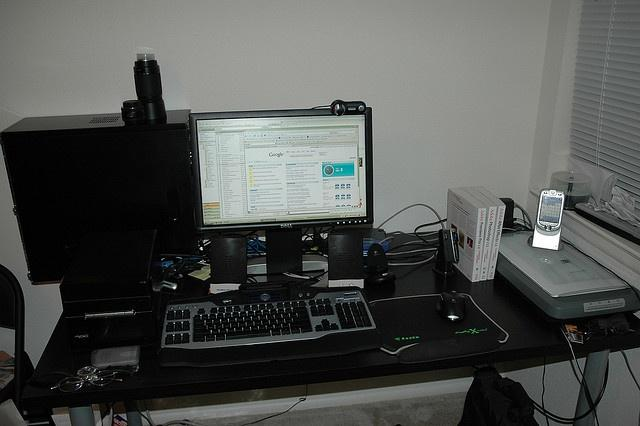AIO PC-Monitor-TV: (187, 105, 375, 236)
